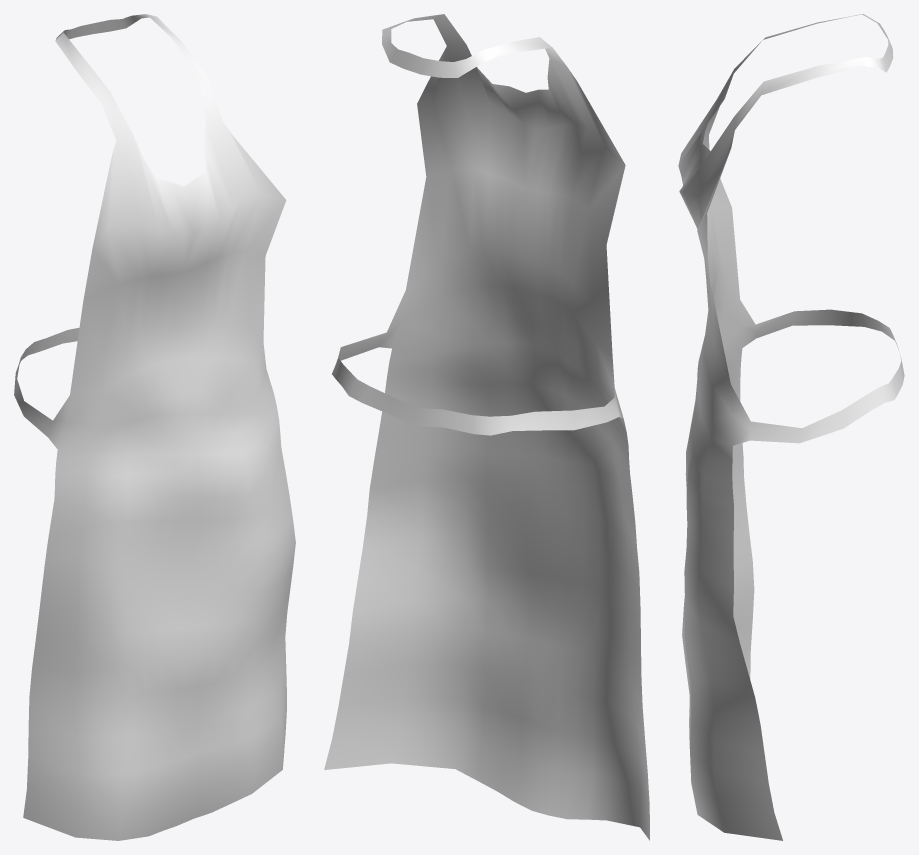
File: Meat_Female_Apron.glb
3 renders of one model, left to right at view 1: azimuth 30°, elevation 25°; view 2: azimuth 150°, elevation 25°; view 3: azimuth 270°, elevation 25°, orthographic. The views are drawn at different scales.
Visible parts, largest first — view 1: Female_Meat_Apron; view 2: Female_Meat_Apron; view 3: Female_Meat_Apron.
Boxes of the visible parts, <box> form: Female_Meat_Apron: <box>14,14,295,840</box>; Female_Meat_Apron: <box>324,14,649,840</box>; Female_Meat_Apron: <box>678,14,904,840</box>.
Bounding box in the file's own units: 0.7756 × 2 × 0.5349.
1 material, 1 textured.
